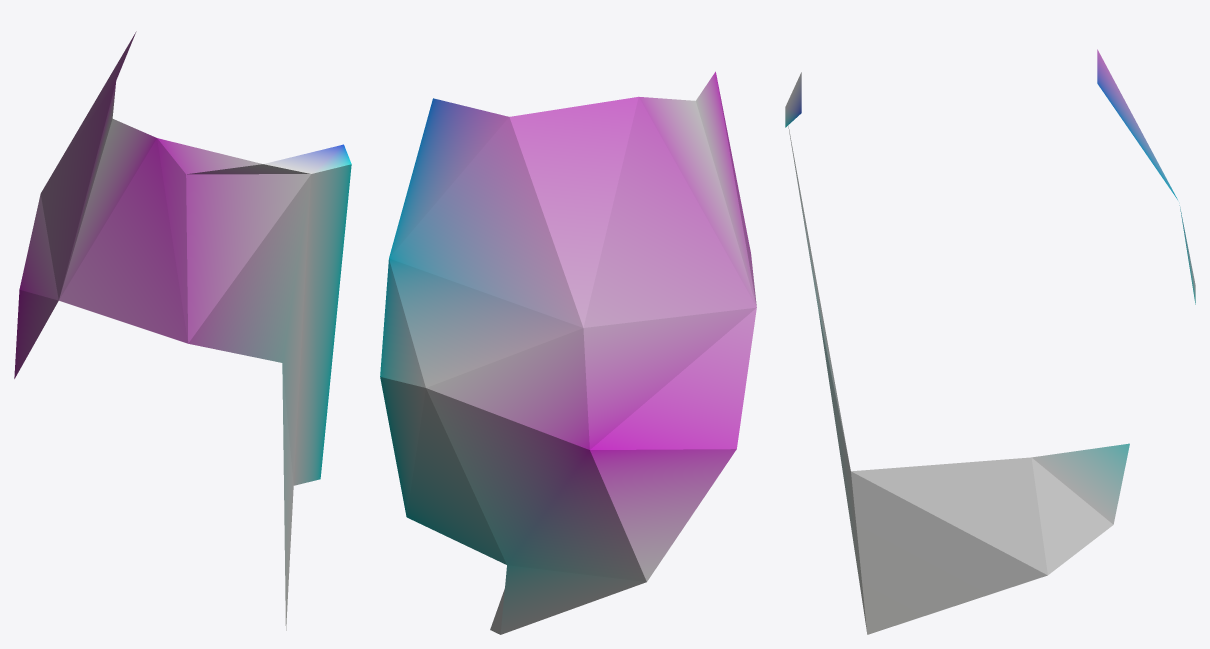
3 views of the same model, side by side, from view 1: azimuth 30°, elevation 25°; view 2: azimuth 150°, elevation 25°; view 3: azimuth 270°, elevation 25° (orthographic). The views are drawn at different scales.
Parts seen in each view (by area): view 1: model_116F; view 2: model_116F; view 3: model_116F.
Boxes of the visible parts, x1,y1,x2,y2 form: model_116F: [14, 31, 351, 630]; model_116F: [380, 71, 756, 634]; model_116F: [785, 49, 1195, 634].
Size of the model in its own units: 17 by 38 by 25.
